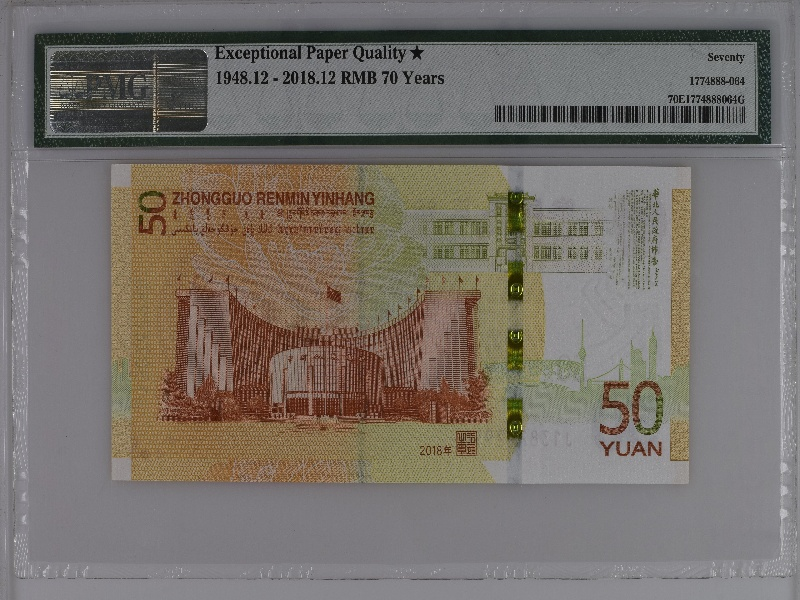papernote: (110, 162, 691, 486)
